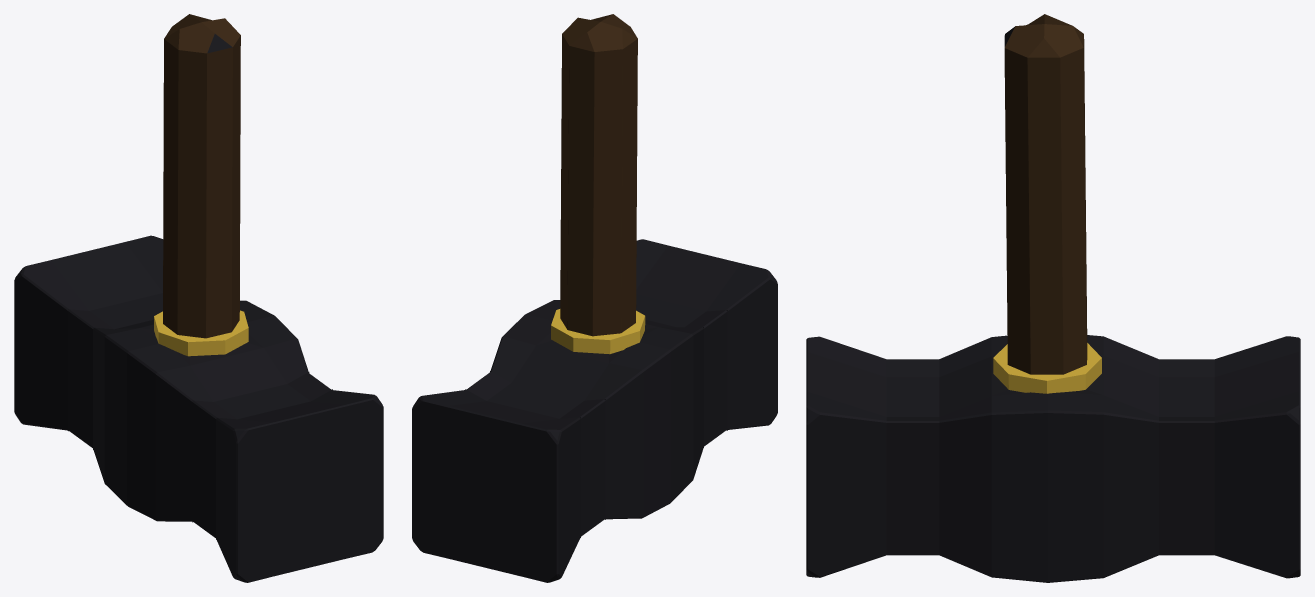
The model's file is hammer.fbx.
3 renders of one model, left to right at view 1: azimuth 30°, elevation 25°; view 2: azimuth 150°, elevation 25°; view 3: azimuth 270°, elevation 25°, orthographic. The views are drawn at different scales.
Visible parts, largest first — view 1: Cube; view 2: Cube; view 3: Cube.
Boxes of the visible parts, box(x1,y1,x2,y2) form: Cube: box(14, 14, 383, 582); Cube: box(412, 14, 777, 582); Cube: box(806, 14, 1300, 582).
Bounding box in the file's own units: 200 × 601 × 519.
